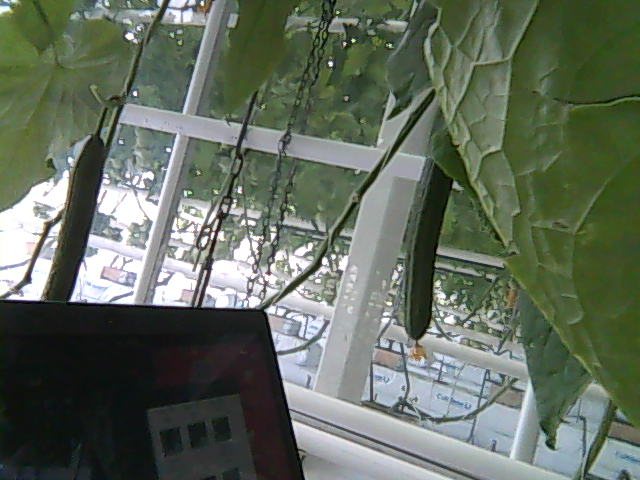concombre: (41, 128, 110, 303), (398, 155, 454, 363)
